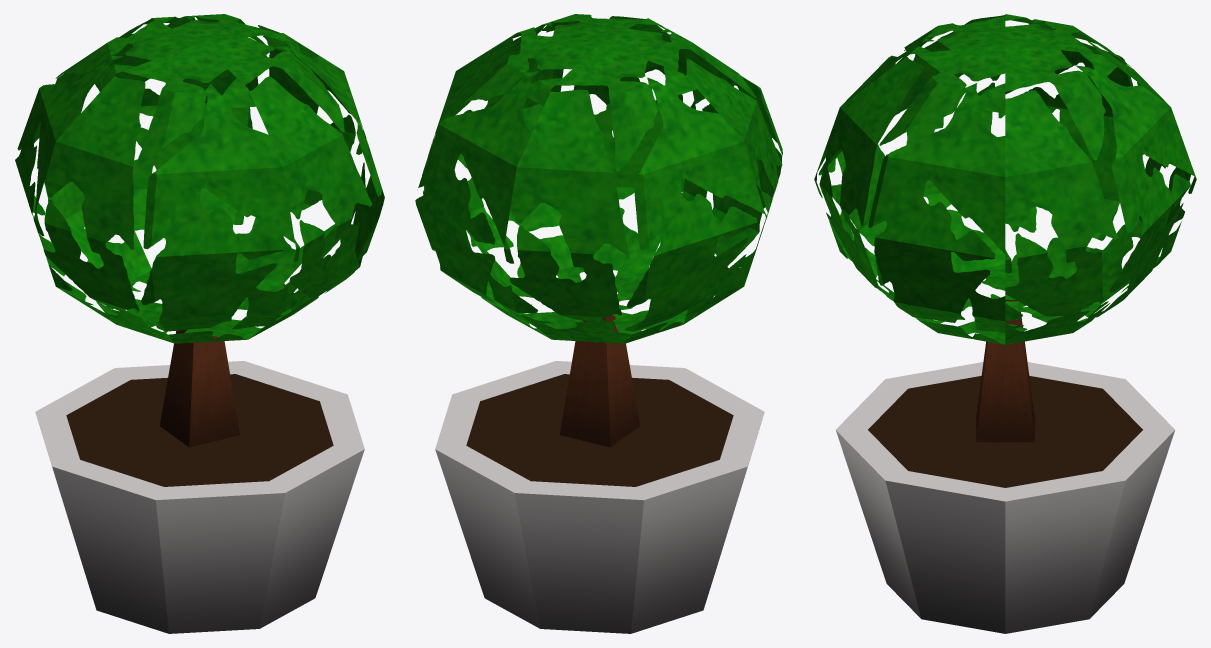
The model's file is Plant_004.fbx.
3 views of the same model, side by side, from view 1: azimuth 30°, elevation 25°; view 2: azimuth 150°, elevation 25°; view 3: azimuth 270°, elevation 25° (orthographic).
Parts seen in each view (by area): view 1: Plant_004; view 2: Plant_004; view 3: Plant_004.
Boxes of the visible parts, <box> form: Plant_004: <box>15,14,384,633</box>; Plant_004: <box>415,14,782,633</box>; Plant_004: <box>814,14,1196,633</box>.
Bounding box in the file's own units: 43.13 × 67.13 × 43.13.
